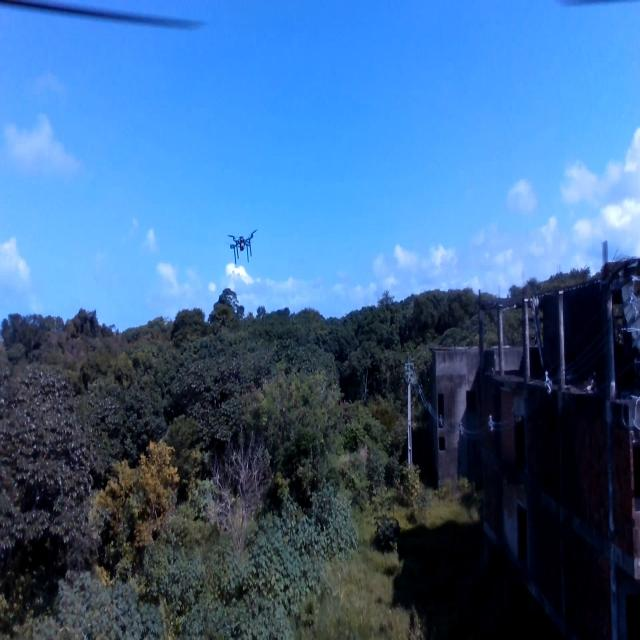-uav-: (225, 227, 259, 265)
